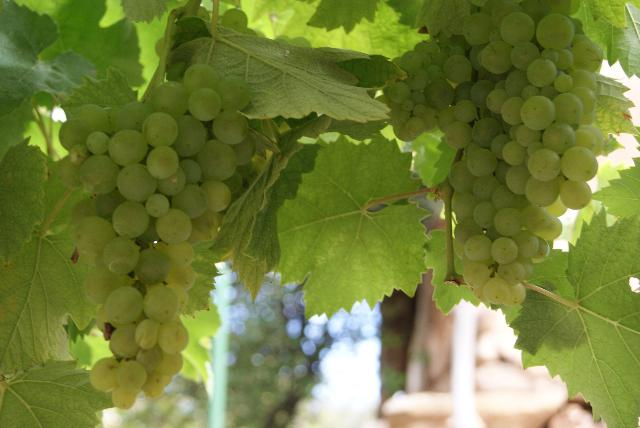grapes: (55, 65, 259, 409)
